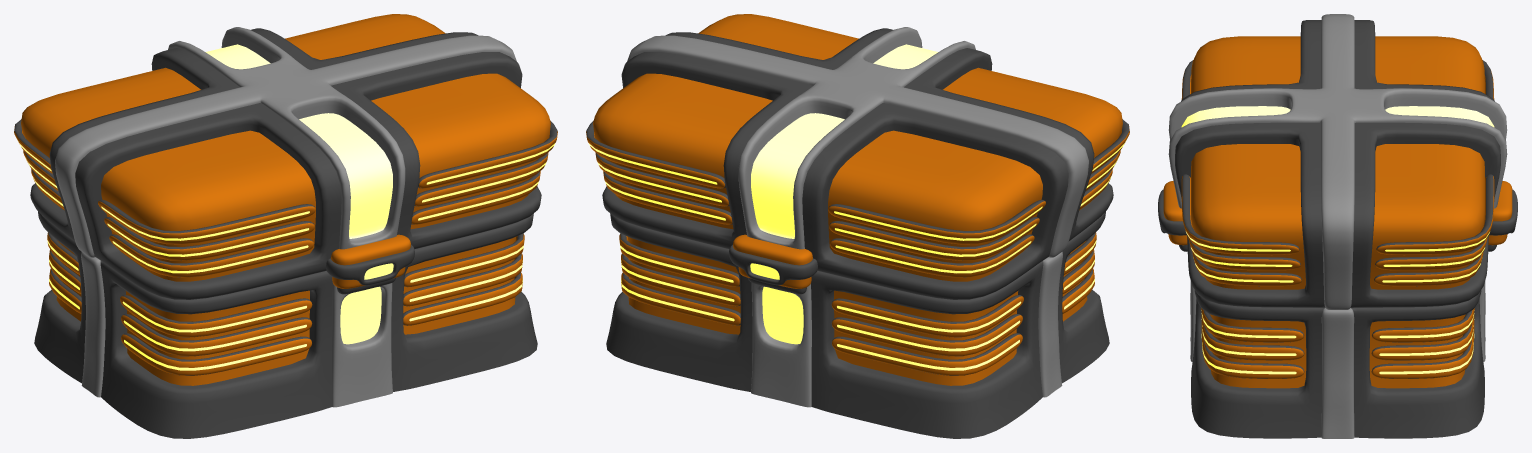
The model's file is PH_mesh_Lootbox_Car.fbx.
The picture shows the model from 3 angles, left to right: view 1: azimuth 30°, elevation 25°; view 2: azimuth 150°, elevation 25°; view 3: azimuth 270°, elevation 25°; orthographic projection. The views are drawn at different scales.
Visible parts, largest first — view 1: mesh_Lootbox_Car; view 2: mesh_Lootbox_Car; view 3: mesh_Lootbox_Car.
Boxes of the visible parts, <box> form: mesh_Lootbox_Car: <box>14,14,557,438</box>; mesh_Lootbox_Car: <box>586,14,1129,438</box>; mesh_Lootbox_Car: <box>1158,14,1517,438</box>.
Size of the model in its own units: 2.99 by 1.65 by 2.19.
